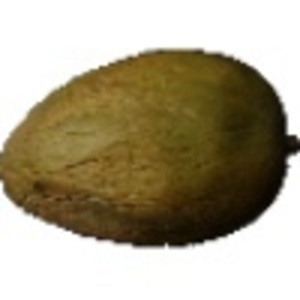mamão: (4, 41, 292, 250)
